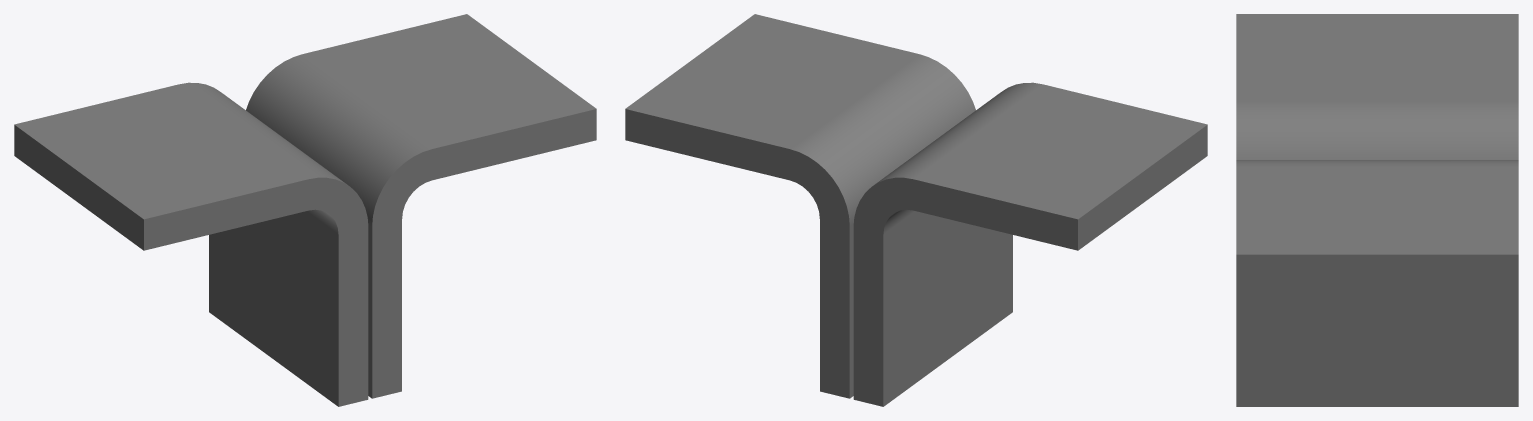
File: С28_Кромки.glb
3 renders of one model, left to right at view 1: azimuth 30°, elevation 25°; view 2: azimuth 150°, elevation 25°; view 3: azimuth 270°, elevation 25°, orthographic. The views are drawn at different scales.
Parts seen in each view (by area): view 1: mesh_id5, mesh_id4; view 2: mesh_id5, mesh_id4; view 3: mesh_id4, mesh_id5.
Part boxes in pixels (x1=…): mesh_id5: x1=14, y1=82, x2=368, y2=406; mesh_id4: x1=246, y1=14, x2=596, y2=398; mesh_id5: x1=853, y1=82, x2=1207, y2=406; mesh_id4: x1=625, y1=14, x2=975, y2=398; mesh_id4: x1=1236, y1=160, x2=1518, y2=406; mesh_id5: x1=1236, y1=14, x2=1518, y2=159.
Bounding box in the file's own units: 0.512 × 0.2539 × 0.2539.
2 materials, 2 textured.
